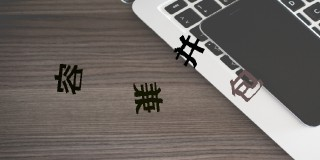兼: (132, 80, 163, 114)
包: (229, 70, 263, 103)
容: (54, 63, 83, 95)
并: (173, 34, 205, 69)
